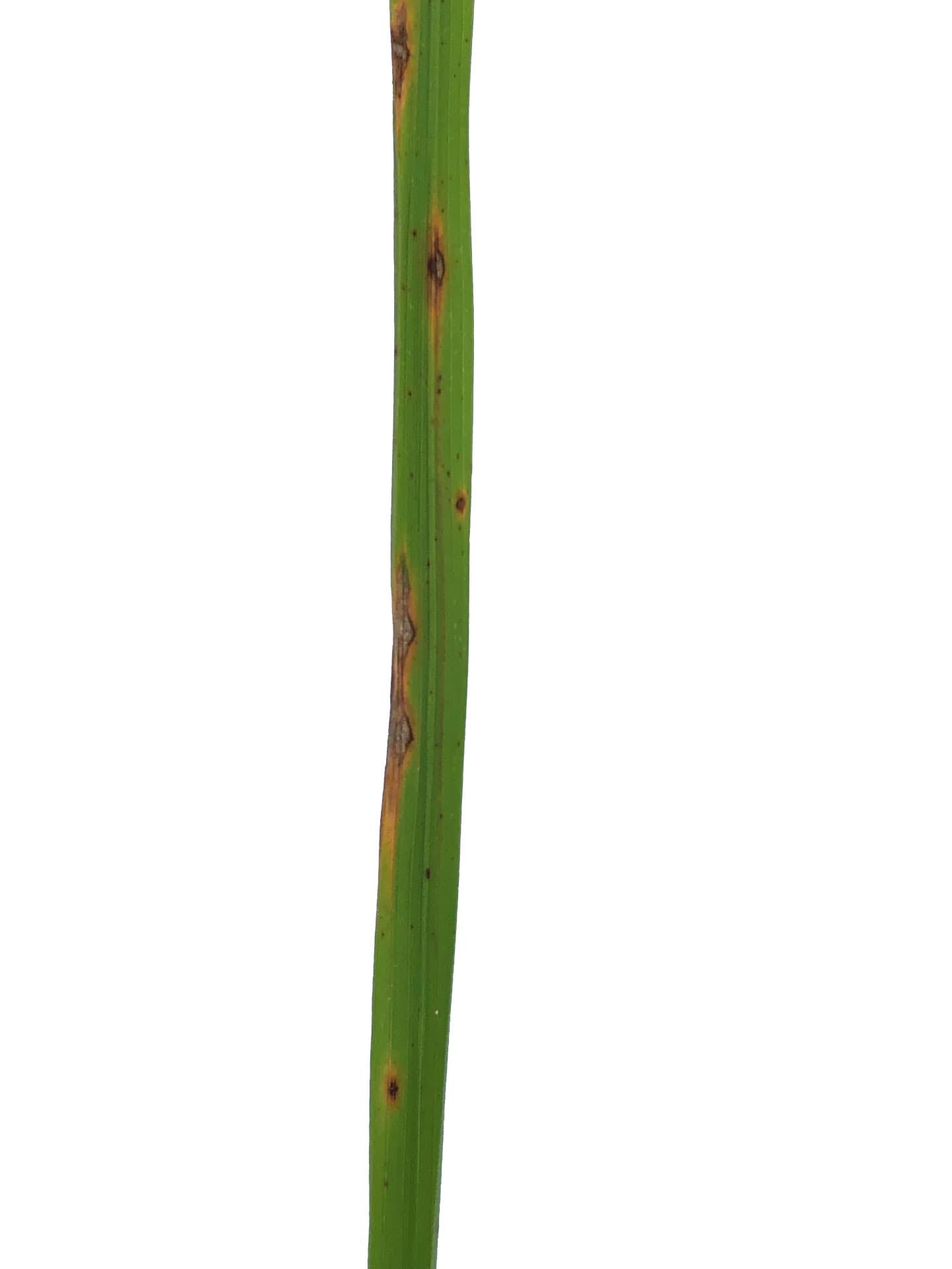Brown spot: (375, 1054, 411, 1121), (448, 482, 475, 531)
Rice blast: (386, 541, 417, 870), (415, 195, 458, 381), (392, 3, 414, 130)
